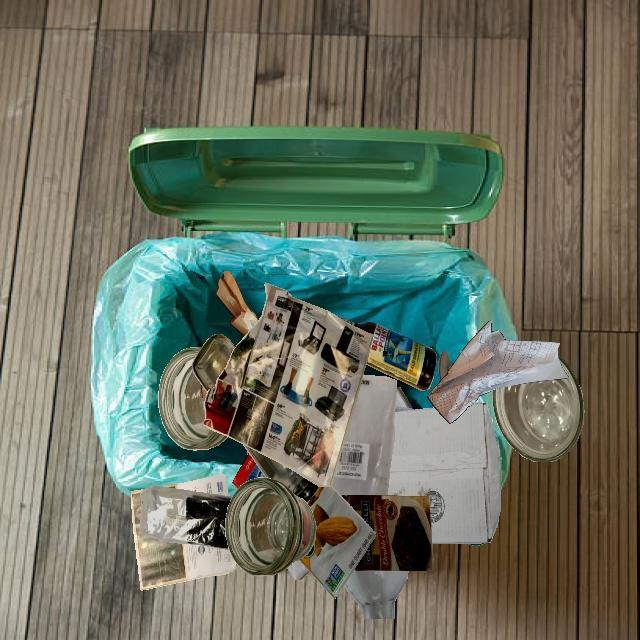biowaste: (247, 451, 249, 455)
cardboard: (388, 402, 501, 544), (299, 485, 376, 598), (341, 495, 434, 571)
glass: (492, 354, 584, 462), (225, 478, 316, 576), (335, 315, 437, 391), (158, 347, 228, 450), (243, 444, 318, 503), (344, 569, 409, 619), (192, 334, 235, 393), (438, 351, 452, 381)
paper: (203, 283, 373, 487), (428, 320, 568, 424), (131, 489, 237, 591), (216, 271, 258, 336), (287, 559, 310, 580), (395, 387, 413, 409)
plastic: (331, 375, 397, 496), (140, 485, 232, 550), (395, 406, 414, 412), (494, 517, 499, 535), (468, 543, 484, 546)
